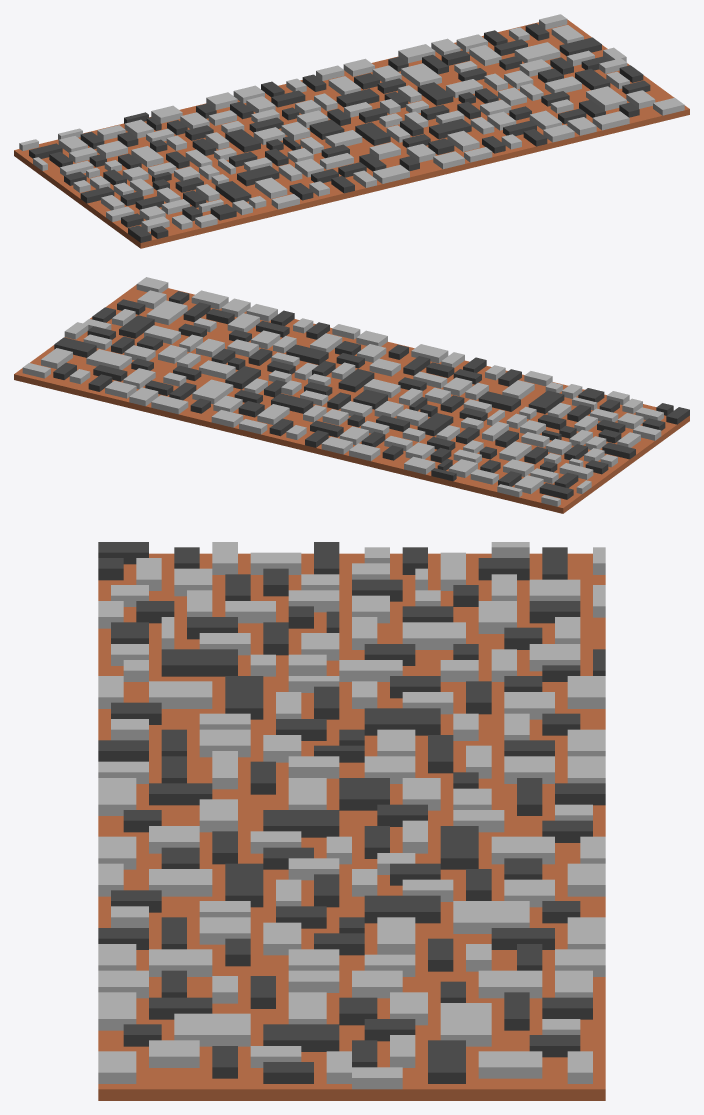
Rendered from Ways-0-Only Way.obj.
The picture shows the model from 3 angles, top to bottom: view 1: azimuth 30°, elevation 25°; view 2: azimuth 150°, elevation 25°; view 3: azimuth 270°, elevation 25°; orthographic projection. The views are drawn at different scales.
Parts seen in each view (by area): view 1: Only Way; view 2: Only Way; view 3: Only Way.
Part boxes in pixels (x1,y1,x2,y2): Only Way: [14, 14, 689, 248]; Only Way: [14, 277, 689, 513]; Only Way: [98, 542, 605, 1100].
Bounding box in the file's own units: 10 × 0.2 × 4.
1 material, 1 textured.
